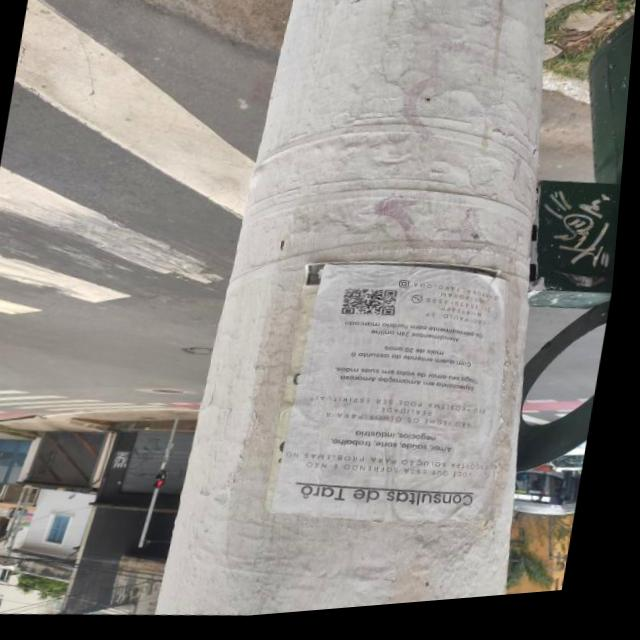qrcode: (346, 291, 404, 326)
